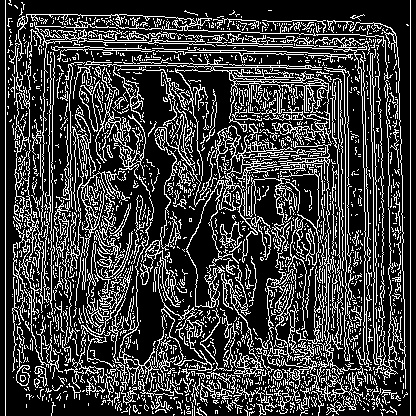buddha-standing: (79, 107, 153, 368)
